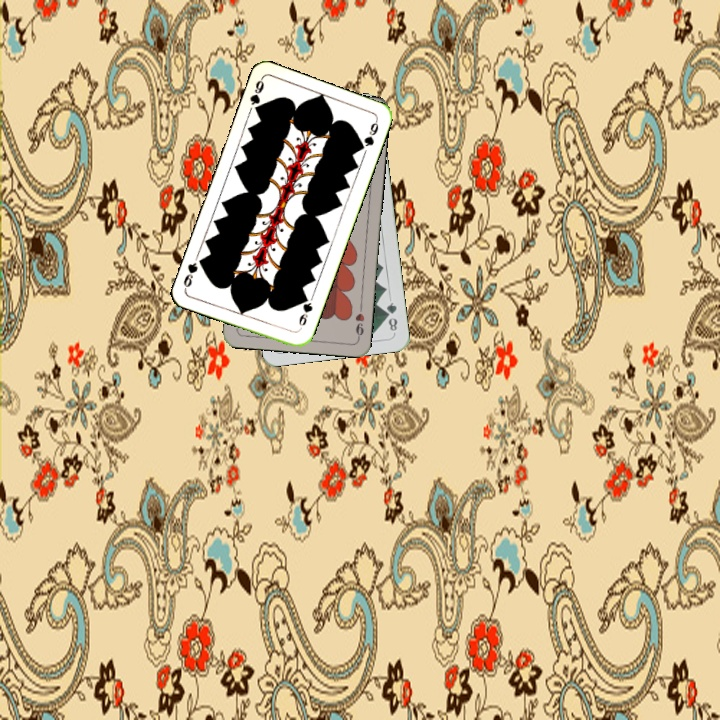G8: (382, 298, 400, 336)
G9: (246, 75, 267, 116), (295, 292, 315, 329)
H9: (351, 300, 367, 341)
